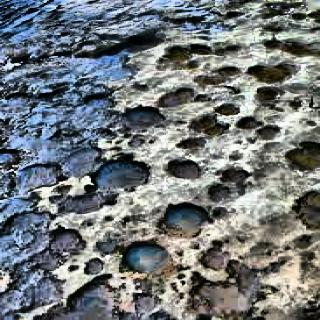pothole: (0, 46, 149, 192), (0, 0, 244, 43), (0, 220, 102, 306), (192, 242, 288, 318), (92, 149, 166, 197), (110, 228, 174, 273), (279, 182, 320, 236), (159, 204, 209, 241), (242, 111, 291, 142), (197, 58, 244, 90), (166, 155, 212, 181), (125, 102, 175, 124), (262, 34, 306, 59), (294, 135, 320, 177), (257, 58, 295, 86), (197, 110, 229, 139), (259, 9, 314, 25), (217, 167, 241, 185), (211, 105, 240, 117)
